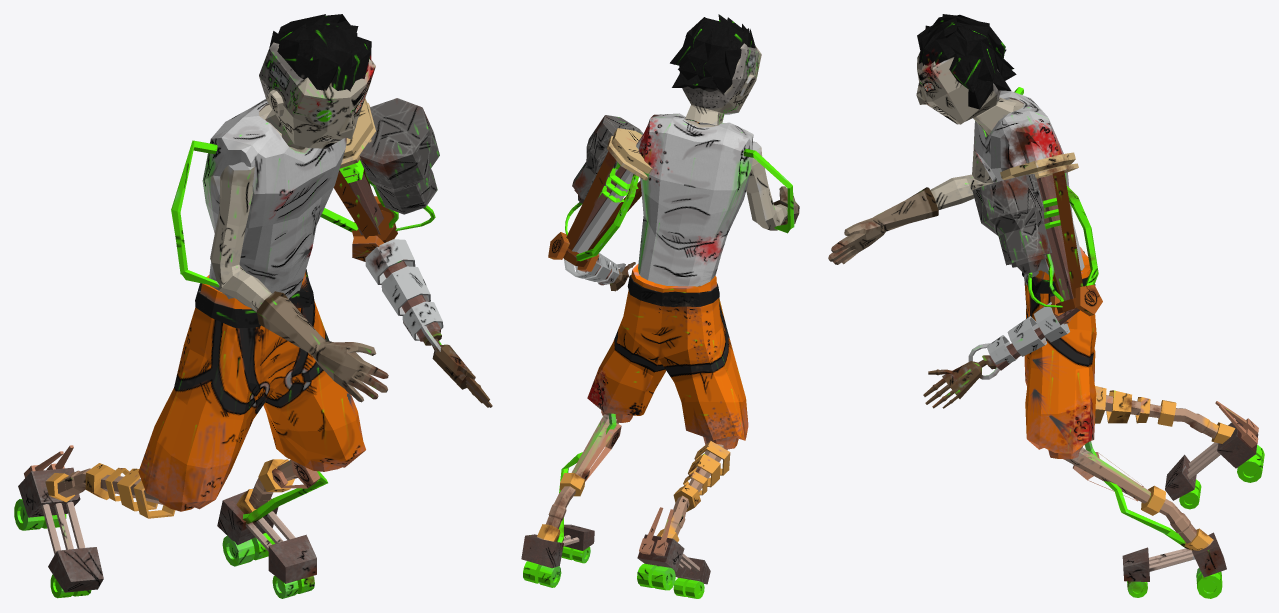
File: CyborgFINALAnimation_000022.obj
3 renders of one model, left to right at view 1: azimuth 30°, elevation 25°; view 2: azimuth 150°, elevation 25°; view 3: azimuth 270°, elevation 25°, orthographic. The views are drawn at different scales.
Parts seen in each view (by area): view 1: CyborgMesh_Cube.002; view 2: CyborgMesh_Cube.002; view 3: CyborgMesh_Cube.002.
Part boxes in pixels (box(x1,y1,x2,y2)): CyborgMesh_Cube.002: box(14, 14, 492, 598); CyborgMesh_Cube.002: box(521, 14, 799, 598); CyborgMesh_Cube.002: box(828, 14, 1264, 598).
Size of the model in its own units: 3.72 by 8.44 by 6.16.
